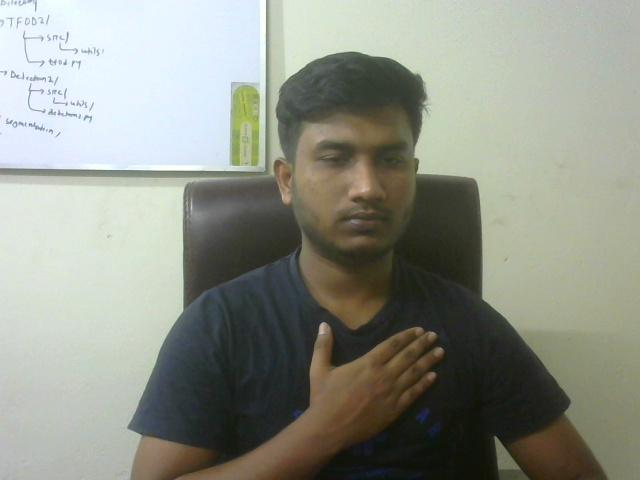Please: (289, 302, 463, 448)
